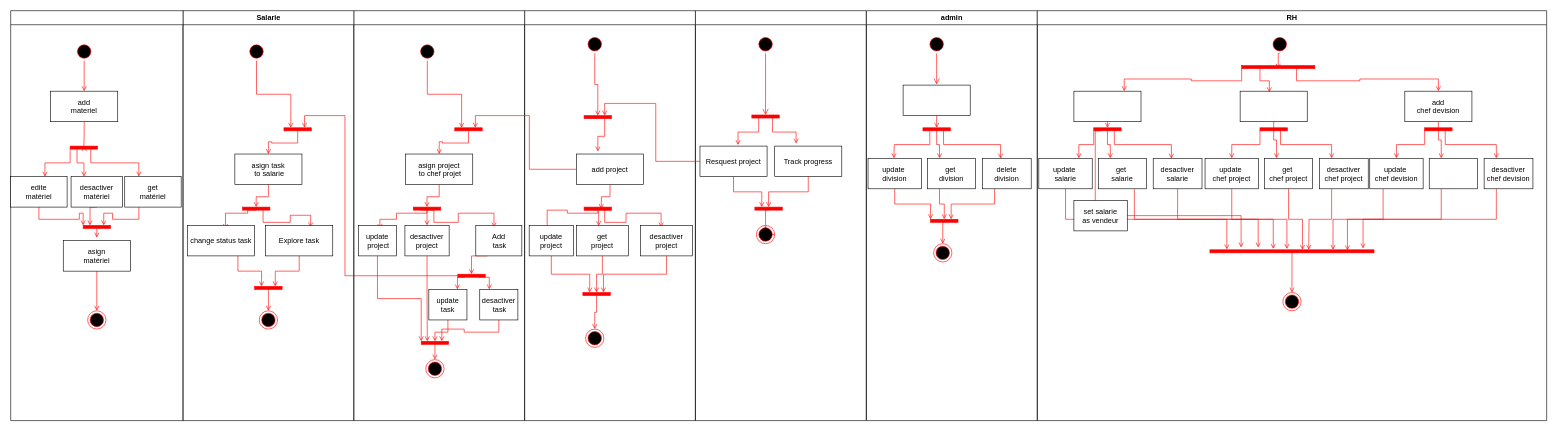
This 1557x431 diagram has some shape labels left out. The box of each missing label's shape, as (x1, y1, x2, y2) in pixels:
add chef project: (1240, 91, 1307, 122)
add division: (902, 84, 970, 116)
add salarie: (1073, 91, 1141, 122)
Chef division: (524, 10, 695, 421)
Chef project: (353, 10, 525, 421)
client: (695, 10, 866, 421)
get chef devision: (1429, 158, 1477, 189)
Super visseur: (10, 10, 183, 421)
